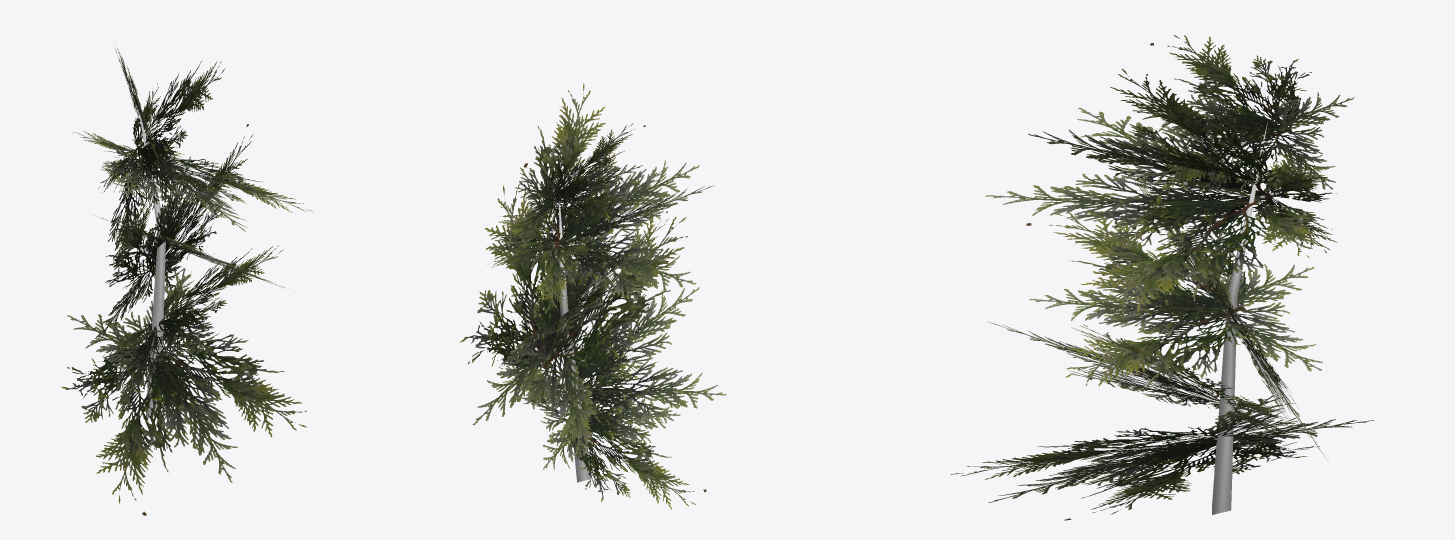
The model's file is tannenzweig 5.fbx.
The picture shows the model from 3 angles, left to right: view 1: azimuth 30°, elevation 25°; view 2: azimuth 150°, elevation 25°; view 3: azimuth 270°, elevation 25°; orthographic projection. The views are drawn at different scales.
Visible parts, largest first — view 1: Circle_005; view 2: Circle_005; view 3: Circle_005.
Boxes of the visible parts, x1,y1,x2,y2 form: Circle_005: (61,48,312,515); Circle_005: (460,83,726,509); Circle_005: (951,35,1374,520).
Size of the model in its own units: 2.14 by 3.84 by 3.55.
